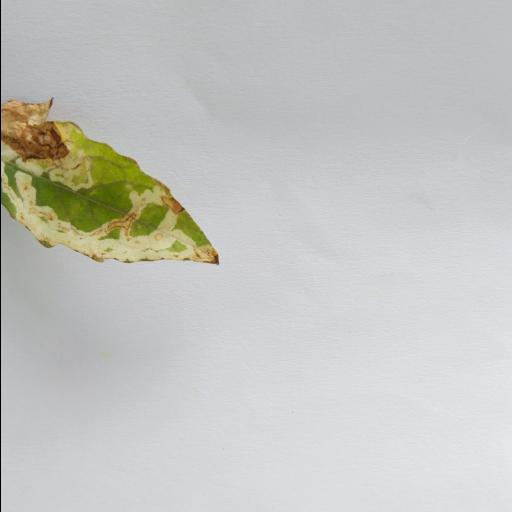Leaf Miner: (0, 94, 230, 268)
